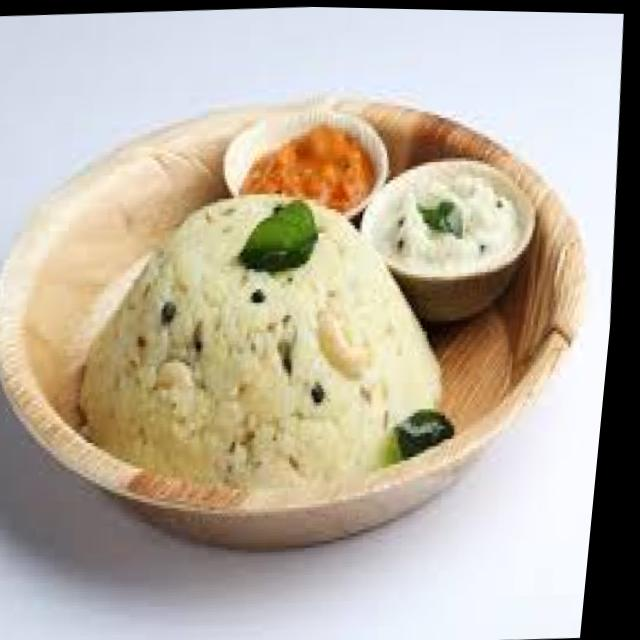PONGAL: (83, 194, 439, 492)
RED CHUTNEY: (241, 120, 374, 209)
WHITE CHUTNEY: (362, 159, 520, 278)
